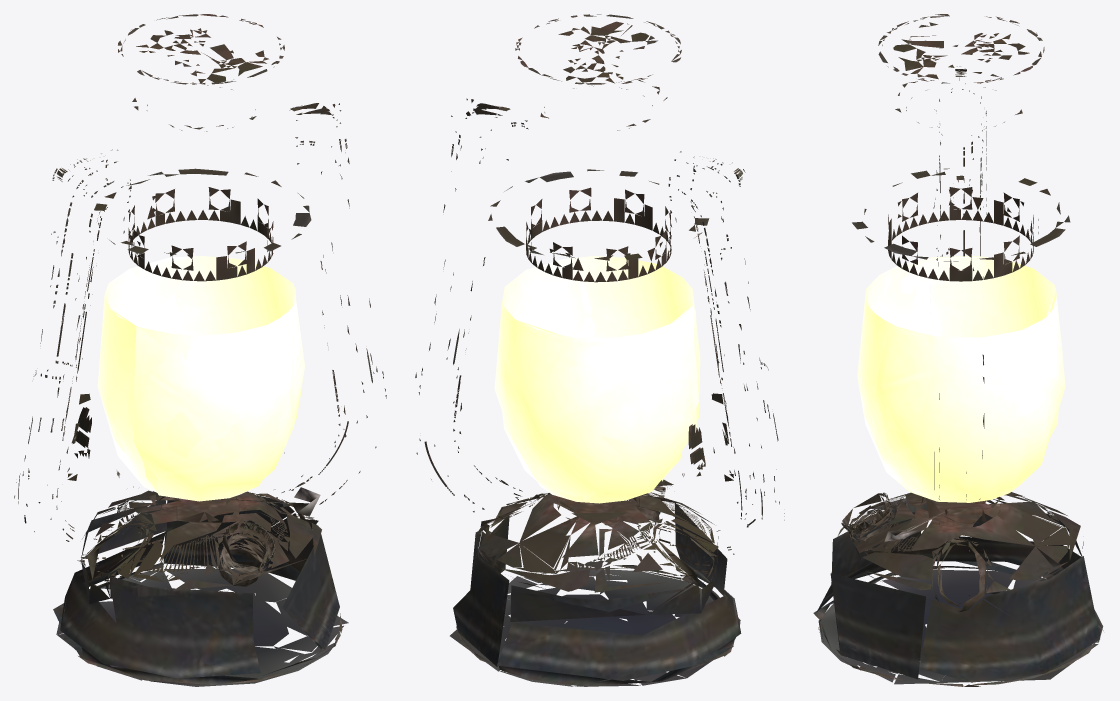
File: lantern_001.glb
3 views of the same model, side by side, from view 1: azimuth 30°, elevation 25°; view 2: azimuth 150°, elevation 25°; view 3: azimuth 270°, elevation 25° (orthographic).
Visible parts, largest first — view 1: Lantern; view 2: Lantern; view 3: Lantern.
Boxes of the visible parts, <box> form: Lantern: <box>14,14,386,686</box>; Lantern: <box>415,14,784,686</box>; Lantern: <box>813,14,1103,686</box>.
Bounding box in the file's own units: 0.3928 × 0.6014 × 0.2707.
5 materials, 5 textured.
